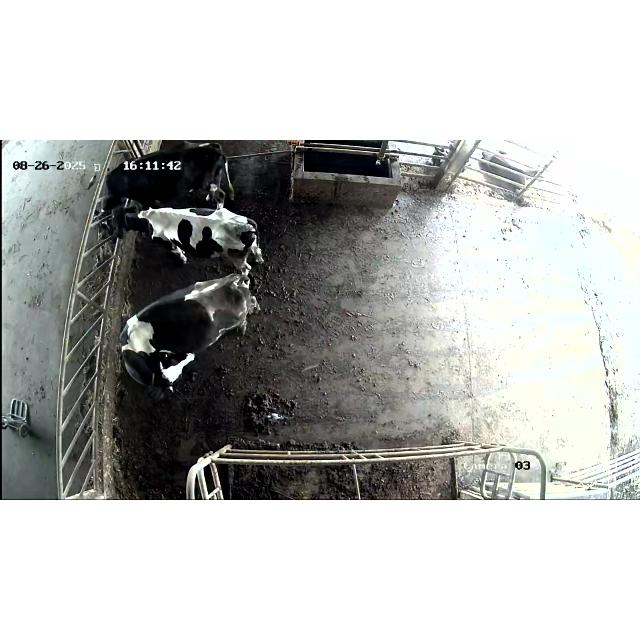eat: (80, 167, 134, 217)
stand: (116, 270, 264, 412), (114, 207, 272, 263)
